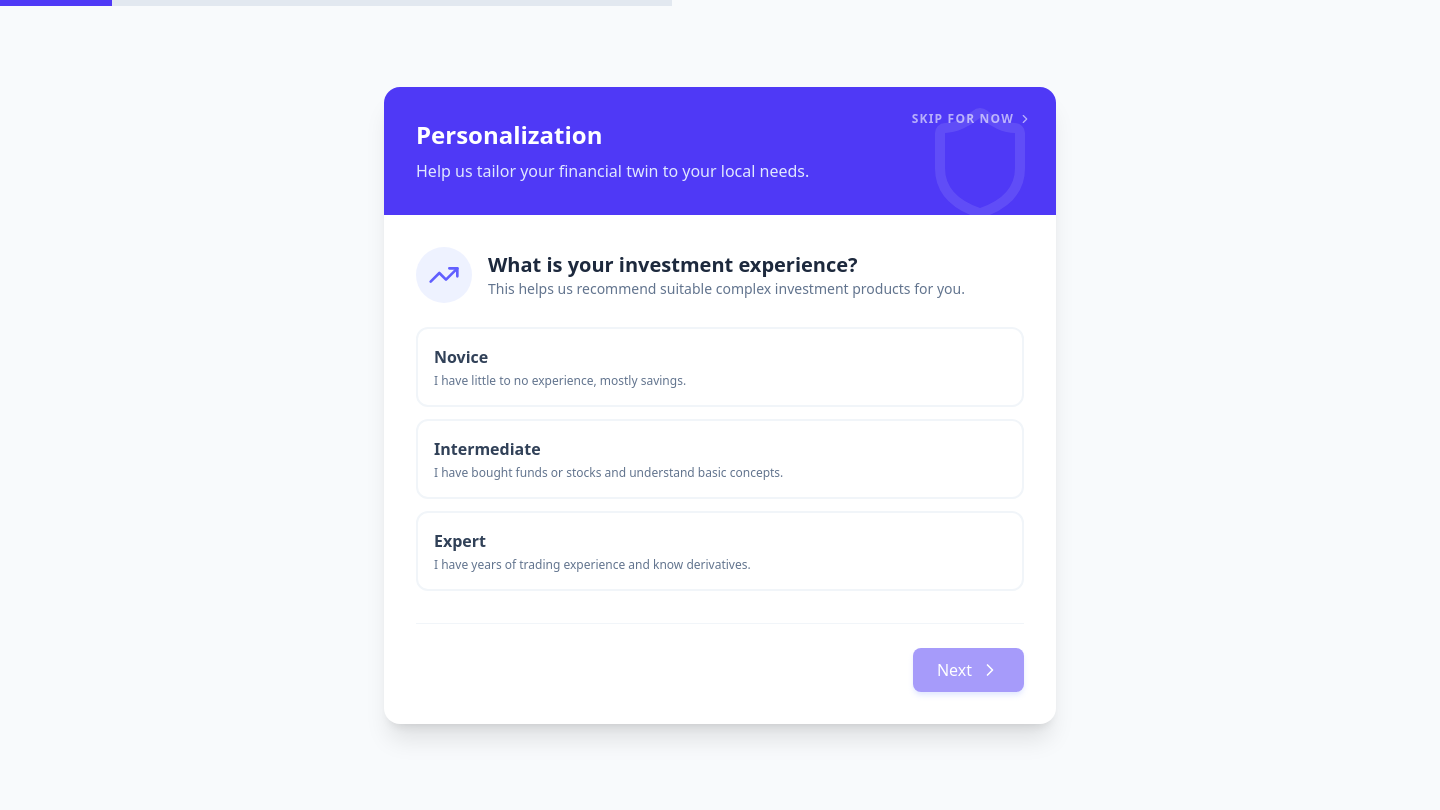
Test: OnboardingQuiz › navigates to the next question when an option is selected and Next is clicked
// Select an option
Click the text "Novice" at (461, 356), box [434, 346, 488, 368]
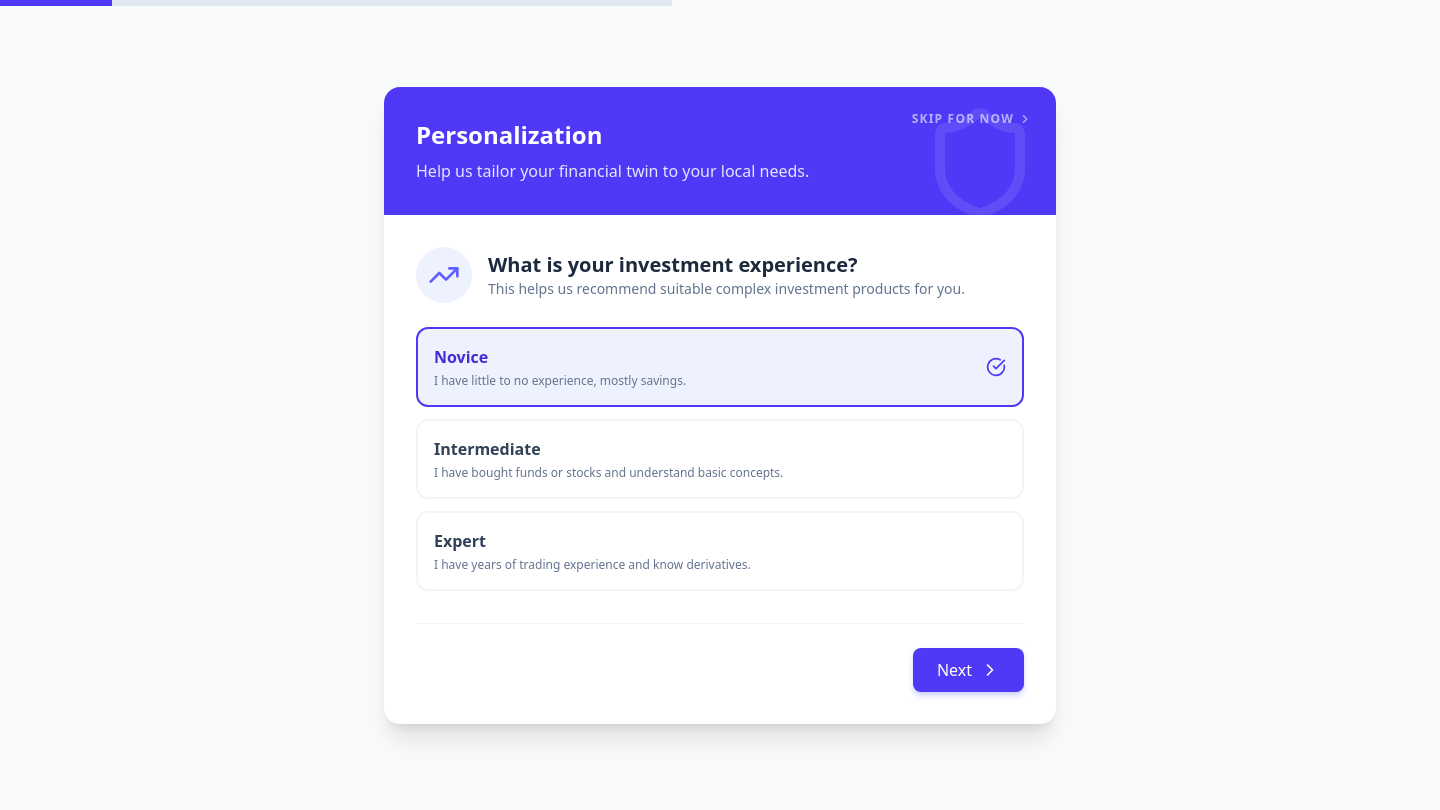
// Click Next
Click the button "Next" at (968, 670), box [913, 648, 1024, 692]
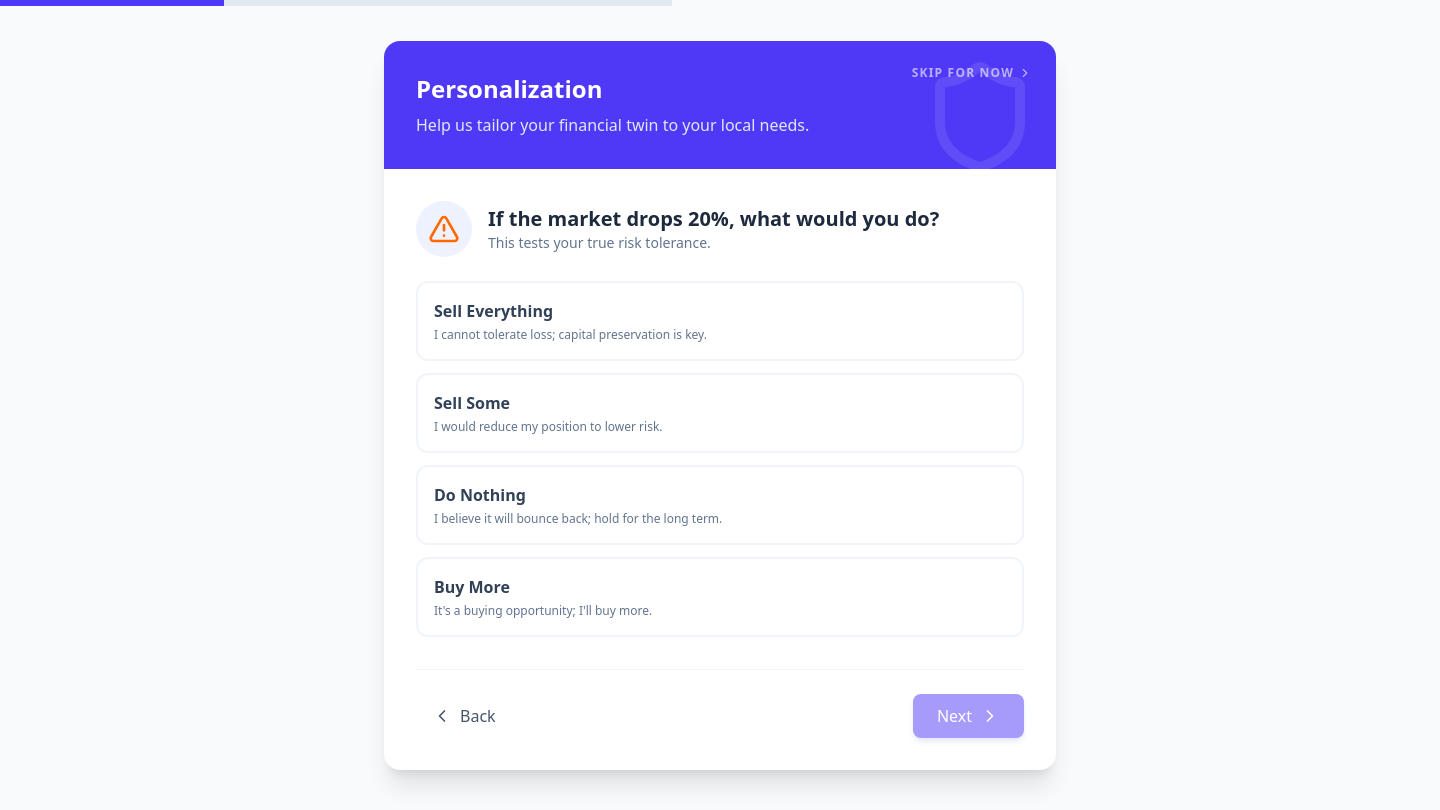
Expected: the heading "If the market drops 20%, what would you do?" is shown, [488, 204, 939, 232]
